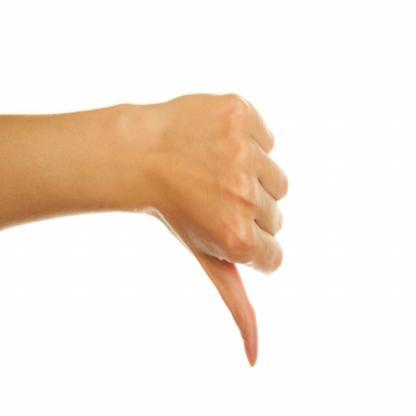thumb_down: (146, 86, 289, 372)
